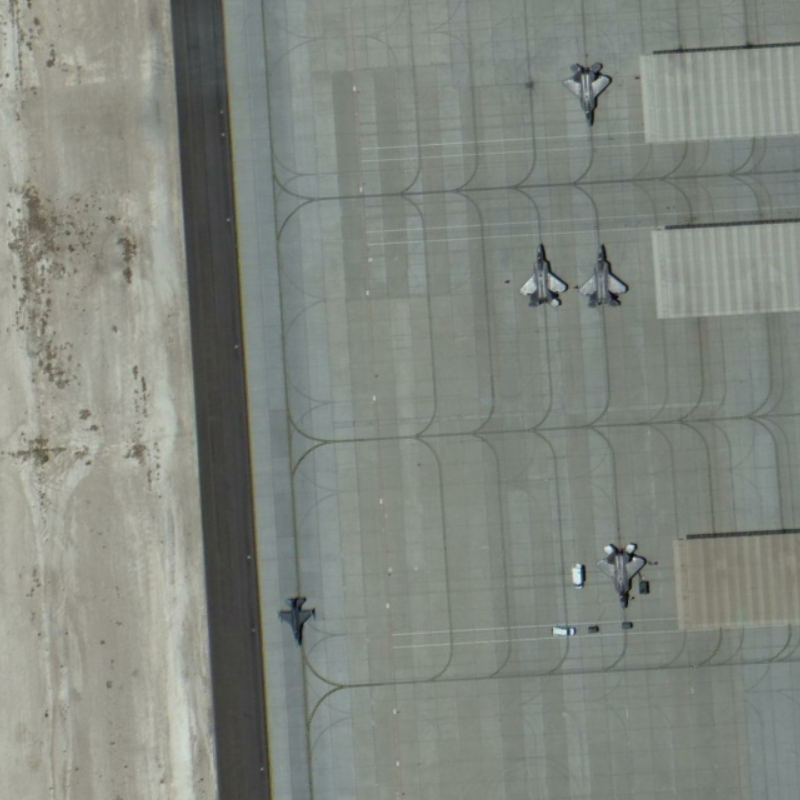A15: (589, 532, 654, 614), (573, 233, 636, 314), (560, 50, 621, 130), (512, 237, 569, 315)
A5: (273, 589, 327, 650)
